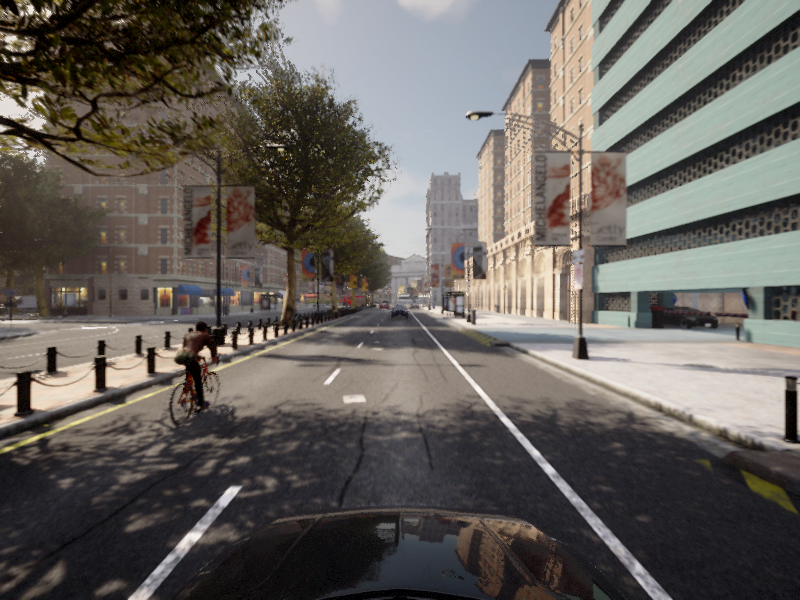vehicle: (1, 1, 799, 576), (1, 1, 799, 568), (150, 320, 234, 431), (391, 305, 408, 318), (288, 303, 300, 318)
